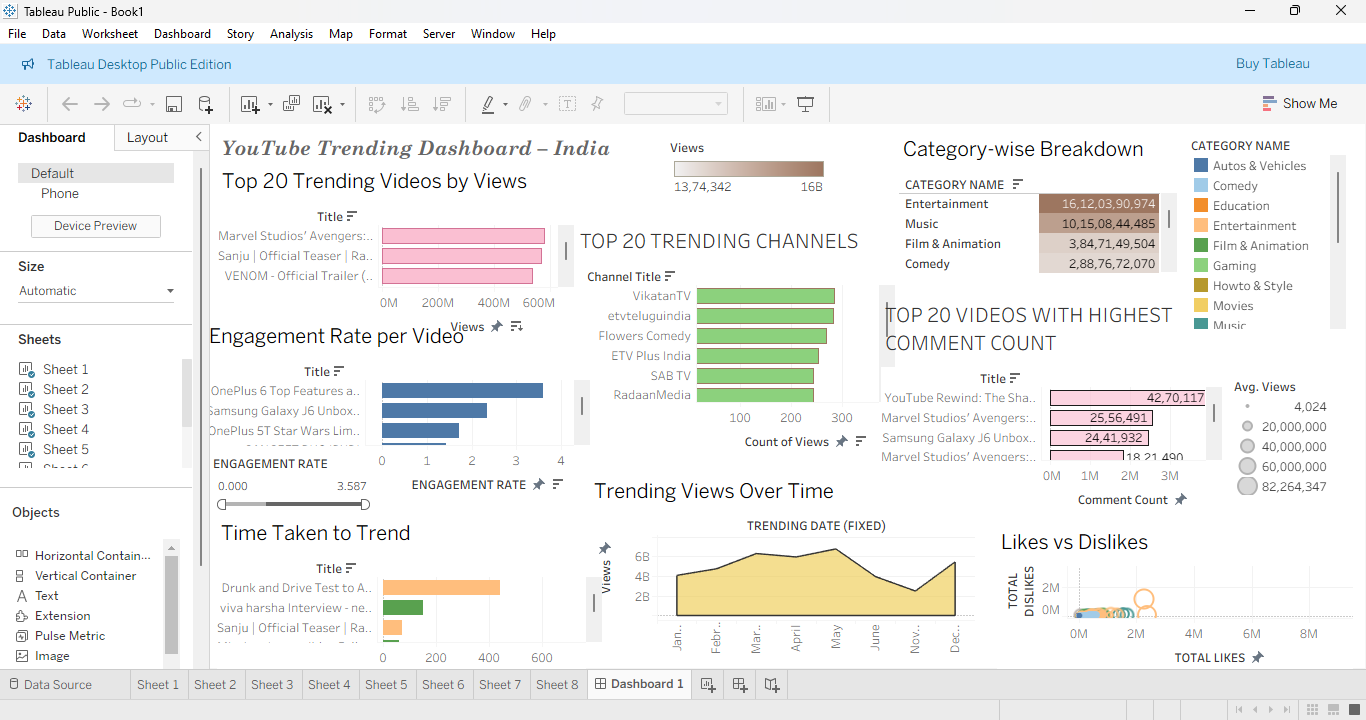

The page's visual inventory and layout, read from the dashboard file:
{"tool":"tableau","page":{"name":"Dashboard 1","canvas":[1000,1000],"units":"permille","ordinal":0},"visuals":[{"type":"worksheet","title":"Sheet 5","mark":"Square","rows":["Calculation_212795112720658434"],"box":[596.5,14.7,246.8,307]},{"type":"legend","title":"Sheet 7","param":"[federated.1gu7zuk1vbagf81h9dvg51e6m6dl].[none:Calculation_212795112720658434:nk","box":[849.4,23.9,135.9,352.9]},{"type":"legend","title":"Sheet 5","param":"[federated.1gu7zuk1vbagf81h9dvg51e6m6dl].[sum:views:qk]","box":[398.3,27.6,136.8,139.7]},{"type":"worksheet","title":"Sheet 1","mark":"Automatic","rows":["title"],"cols":["views"],"box":[6.9,73.5,308.2,327.2]},{"type":"worksheet","title":"Sheet 3","mark":"Automatic","rows":["channel_title"],"cols":["views"],"box":[316.9,180.2,276.2,432]},{"type":"worksheet","title":"Sheet 6","mark":"Automatic","rows":["title"],"cols":["comment_count"],"box":[581,316.2,295.2,402.6]},{"type":"legend","title":"Sheet 7","param":"[federated.1gu7zuk1vbagf81h9dvg51e6m6dl].[avg:views:qk]","box":[886.6,466.9,106.5,224.3]},{"type":"filter","title":"Sheet 4","param":"[federated.1gu7zuk1vbagf81h9dvg51e6m6dl].[sum:Calculation_212795112719286273:qk]","box":[2.6,608.5,139.4,119.5]},{"type":"worksheet","title":"Sheet 2","mark":"Area","rows":["views"],"cols":["Calculation_212795112714145792"],"box":[329,643.4,333.3,332.7]}]}

Visuals, with their boxes on the dashboard's canvas, which has no fixed pixel size, in thousandths of its width and height (x1, y1, x2, y2). These are canvas units, not pixel positions in the 1366x720 screenshot, which may show the page scaled, cropped or inside an application window:
"Sheet 5" worksheet (Square marks): 596 15 843 322
"Sheet 7" legend: 849 24 985 377
"Sheet 5" legend: 398 28 535 167
"Sheet 1" worksheet: 7 74 315 401
"Sheet 3" worksheet: 317 180 593 612
"Sheet 6" worksheet: 581 316 876 719
"Sheet 7" legend: 887 467 993 691
"Sheet 4" filter: 3 608 142 728
"Sheet 2" worksheet (Area marks): 329 643 662 976
